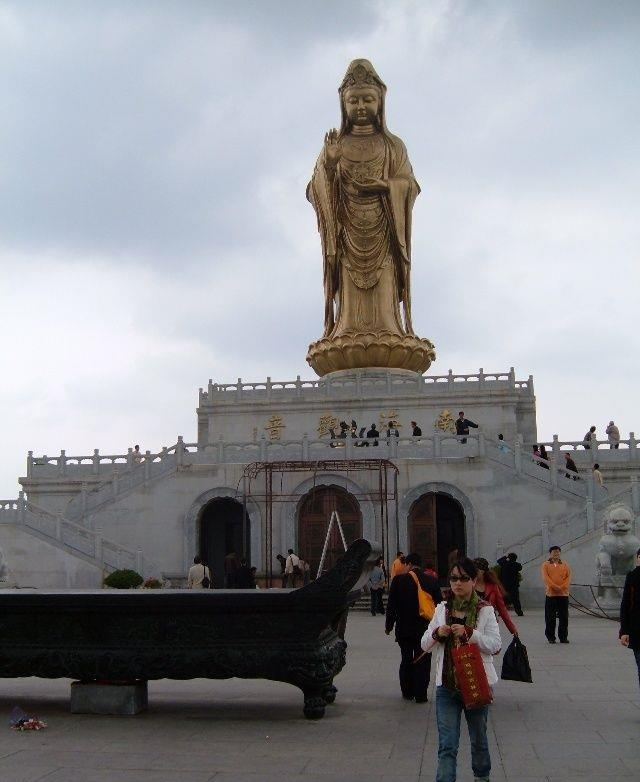Putuo_Mountain_Avalokitesvara: (295, 53, 443, 369)
